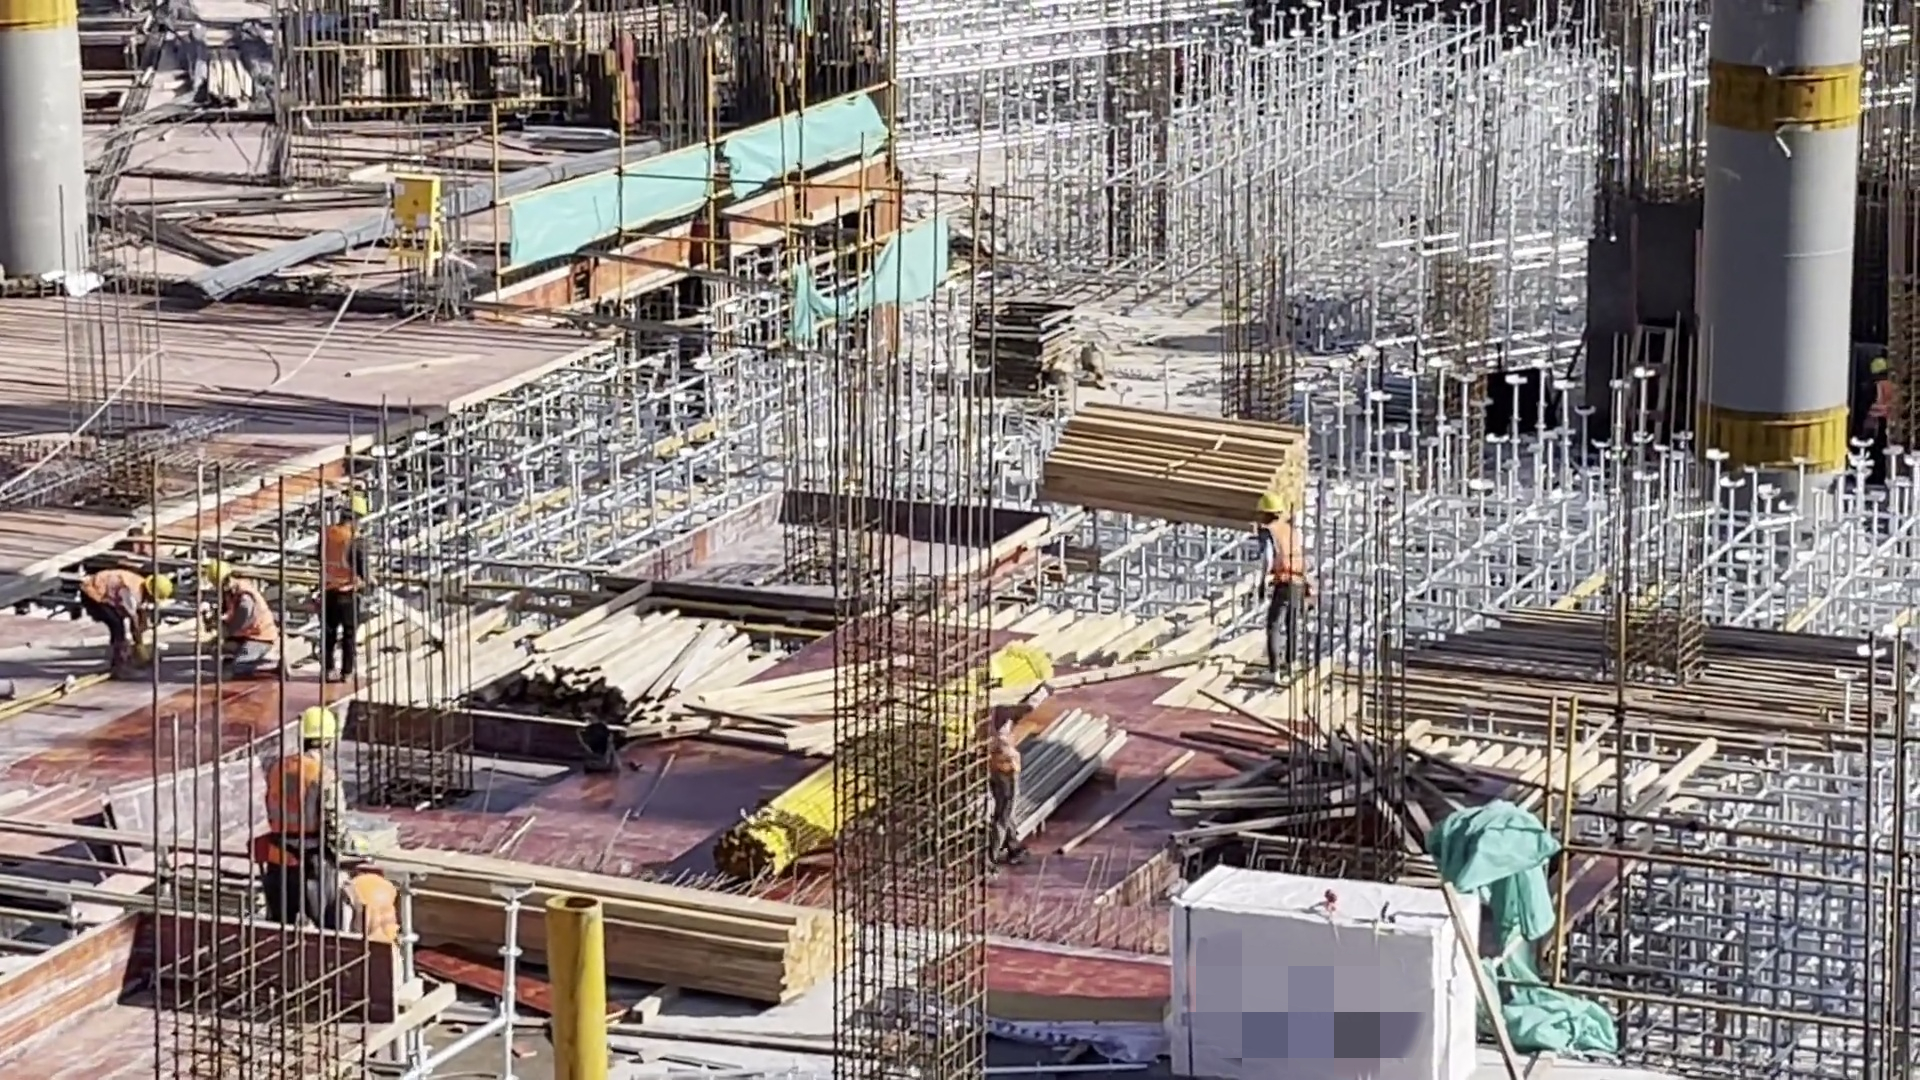helmet: (294, 698, 342, 751), (140, 567, 183, 608), (967, 650, 1011, 688), (1250, 486, 1288, 528), (336, 832, 371, 872), (338, 489, 376, 516), (206, 562, 234, 587)
person: (250, 704, 357, 926), (313, 493, 385, 676), (1244, 495, 1318, 672), (315, 856, 418, 978), (973, 661, 1027, 867), (74, 551, 172, 661), (199, 558, 281, 673)
vest: (255, 763, 351, 866), (73, 564, 151, 621), (968, 694, 1022, 776), (216, 586, 291, 643), (316, 521, 371, 587), (1256, 528, 1308, 579)
